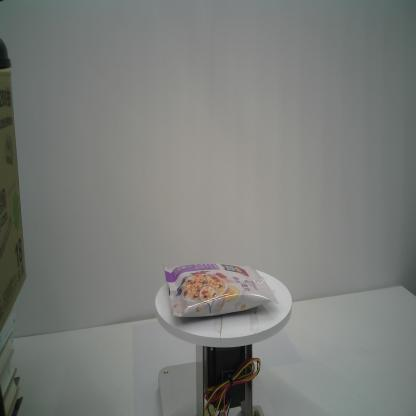Instant Drink: (162, 262, 280, 318)
